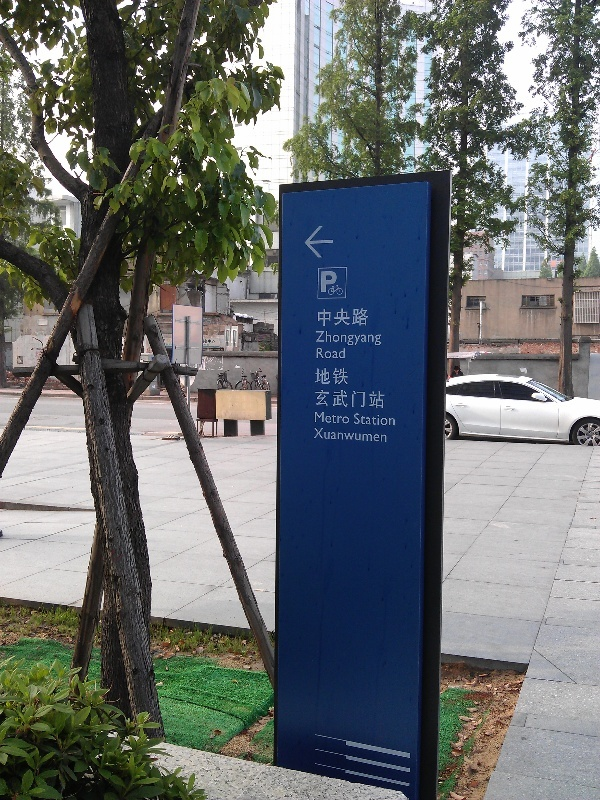text: (321, 271, 336, 293), (321, 389, 336, 409), (337, 389, 352, 409), (353, 389, 368, 409), (369, 389, 384, 409), (321, 308, 336, 326), (337, 308, 352, 326), (353, 308, 368, 326), (321, 330, 336, 348), (337, 330, 352, 348), (353, 330, 368, 348), (321, 368, 336, 386), (321, 427, 336, 443), (337, 427, 352, 443), (353, 427, 368, 443), (369, 427, 384, 443), (369, 330, 382, 348), (369, 412, 384, 427), (337, 368, 349, 386), (321, 347, 336, 361), (321, 411, 336, 425), (354, 412, 368, 427), (337, 411, 350, 425), (385, 412, 397, 427), (337, 347, 347, 361), (315, 389, 320, 409), (314, 427, 320, 443), (315, 368, 320, 386), (316, 330, 320, 348), (315, 411, 320, 425), (316, 347, 320, 361), (385, 427, 388, 443), (318, 308, 320, 326), (167, 339, 176, 343), (209, 340, 216, 344), (337, 271, 338, 293), (385, 389, 386, 409), (166, 344, 176, 346), (369, 308, 370, 326), (204, 340, 208, 344), (203, 344, 208, 346)
